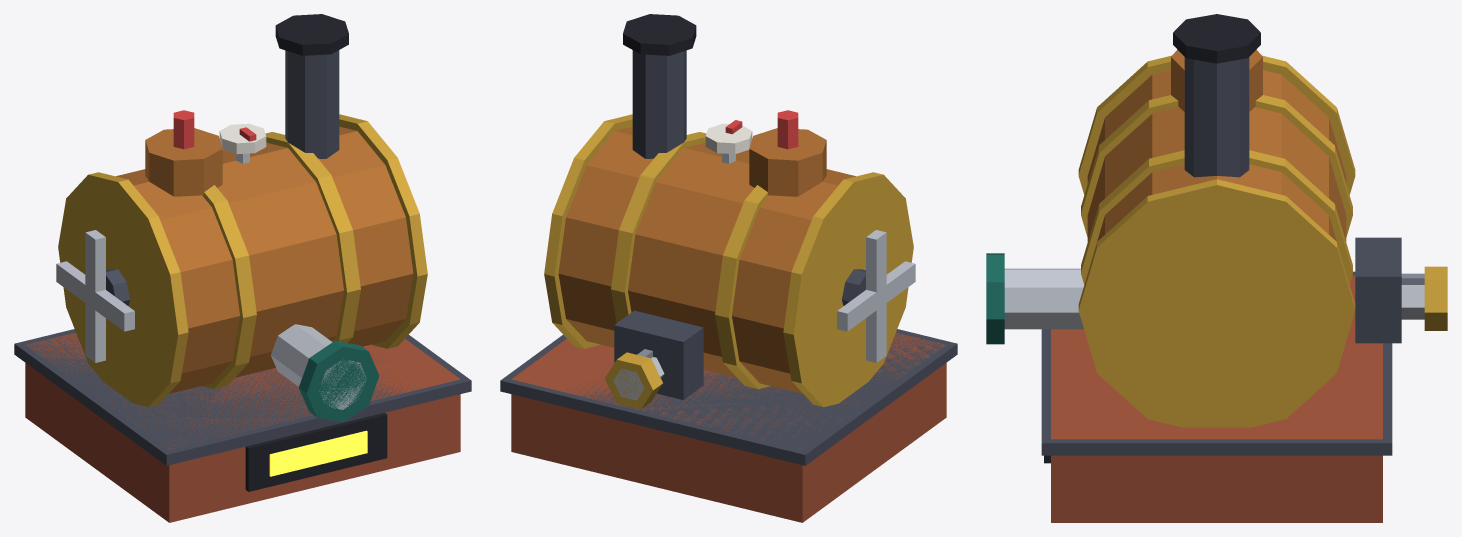
File: boiler.glb
The picture shows the model from 3 angles, left to right: view 1: azimuth 30°, elevation 25°; view 2: azimuth 150°, elevation 25°; view 3: azimuth 270°, elevation 25°; orthographic projection. The views are drawn at different scales.
Parts seen in each view (by area): view 1: boiler, spin-x; view 2: boiler, spin-x, spin-y; view 3: boiler, spin-y.
Boxes of the visible parts, x1,y1,x2,y2 form: boiler: (14, 14, 471, 522); spin-x: (56, 230, 134, 362); boiler: (500, 14, 957, 522); spin-x: (837, 230, 915, 362); spin-y: (604, 349, 664, 409); boiler: (986, 14, 1401, 522); spin-y: (1401, 266, 1447, 330).
Size of the model in its own units: 0.88 by 1.07 by 1.
3 materials, 3 textured.
